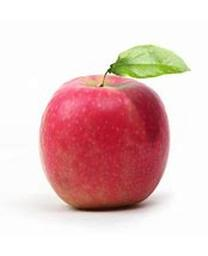apple: (35, 72, 170, 210)
